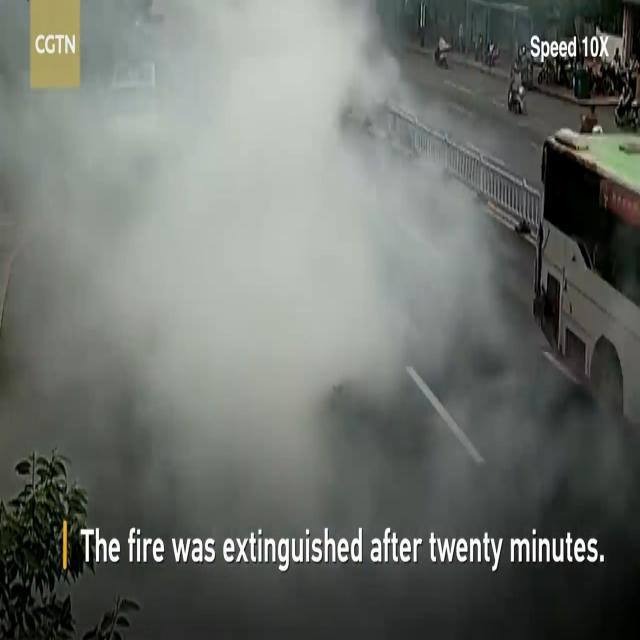Smoke: (0, 0, 491, 524)
